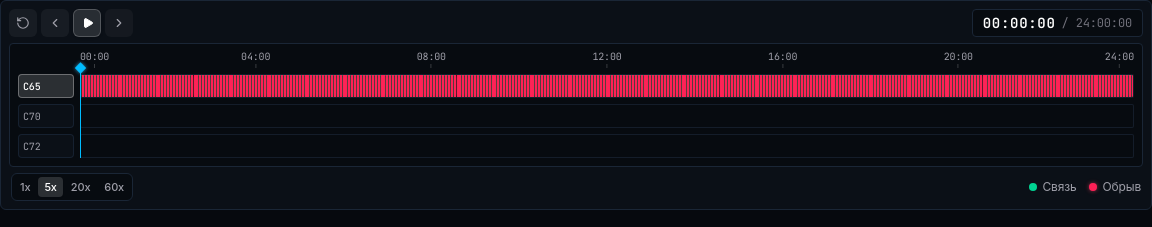
Test case: TimelinePlayer Component › toggles play/pause and advances time during playback
The image size is (1152, 227).
Click the button named "старт" at (87, 23), box [73,9,101,37]
Wait 250 ms
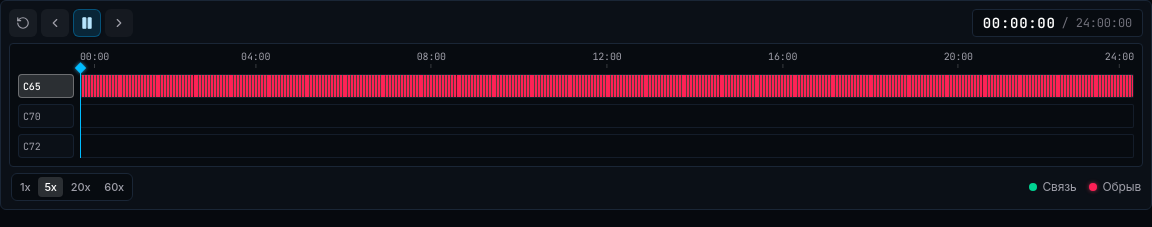
Result: the button named "пауза" is shown
Note: Click pause
Click the button named "пауза" at (87, 23), box [73,9,101,37]
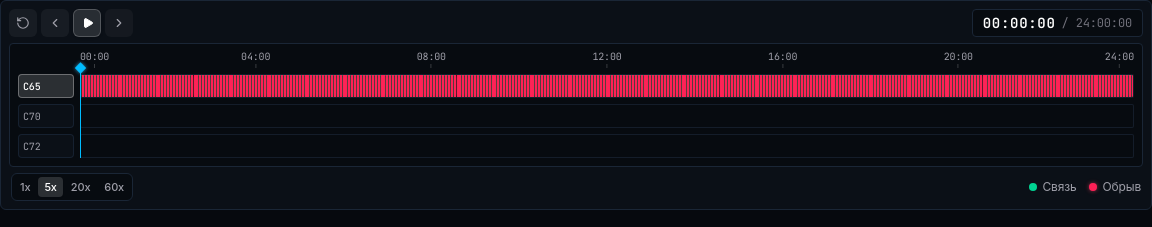
Result: the button named "старт" is shown at [73,9,101,37]
